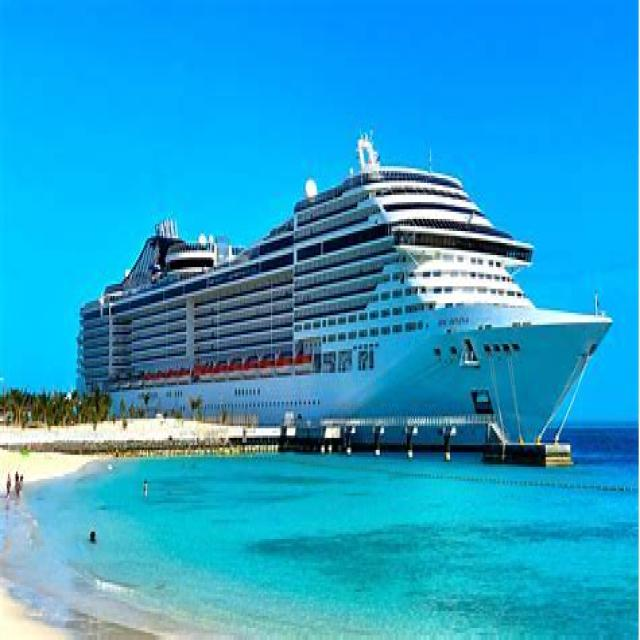PassengerShip: (39, 158, 606, 472)
